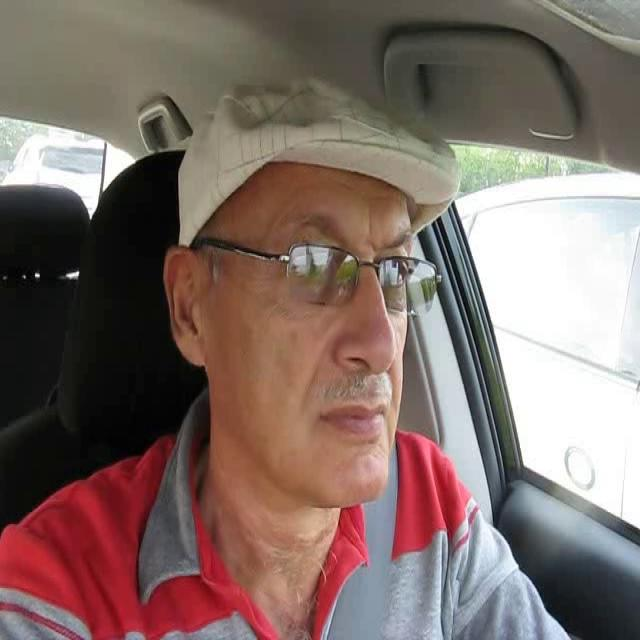close: (318, 400, 393, 440)
